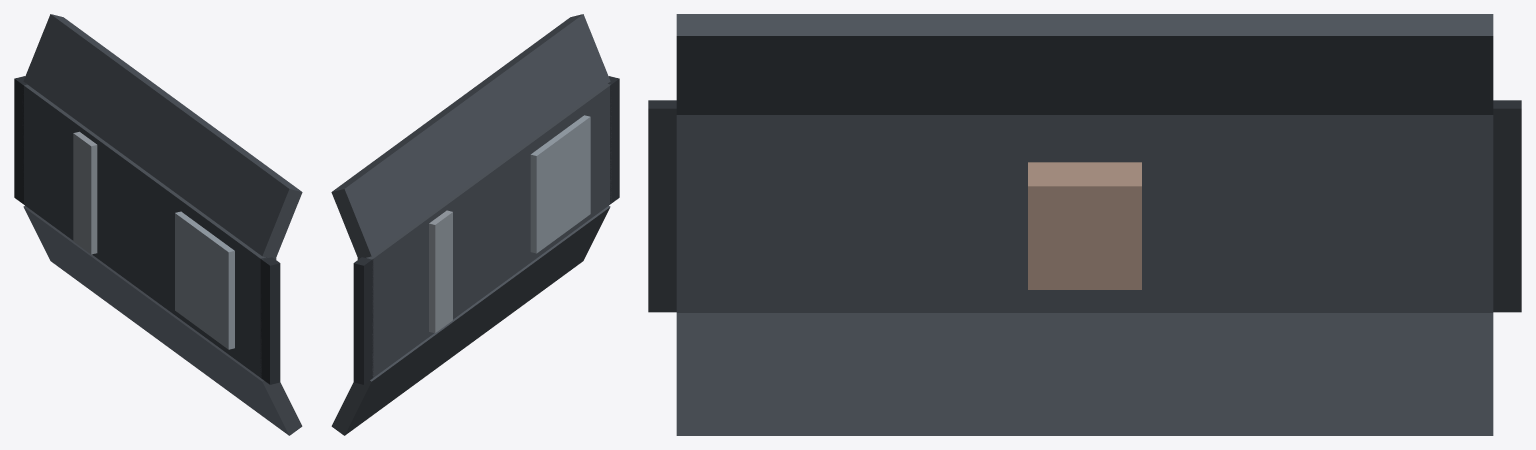
Rendered from inf_warden_plate_shield.fbx.
The picture shows the model from 3 angles, left to right: view 1: azimuth 30°, elevation 25°; view 2: azimuth 150°, elevation 25°; view 3: azimuth 270°, elevation 25°; orthographic projection. The views are drawn at different scales.
Parts seen in each view (by area): view 1: inf_warden_plate_shield; view 2: inf_warden_plate_shield; view 3: inf_warden_plate_shield.
Boxes of the visible parts, <box> form: inf_warden_plate_shield: <box>14,14,302,435</box>; inf_warden_plate_shield: <box>331,14,619,435</box>; inf_warden_plate_shield: <box>648,14,1521,435</box>.
Size of the model in its own units: 48 by 228 by 428.
